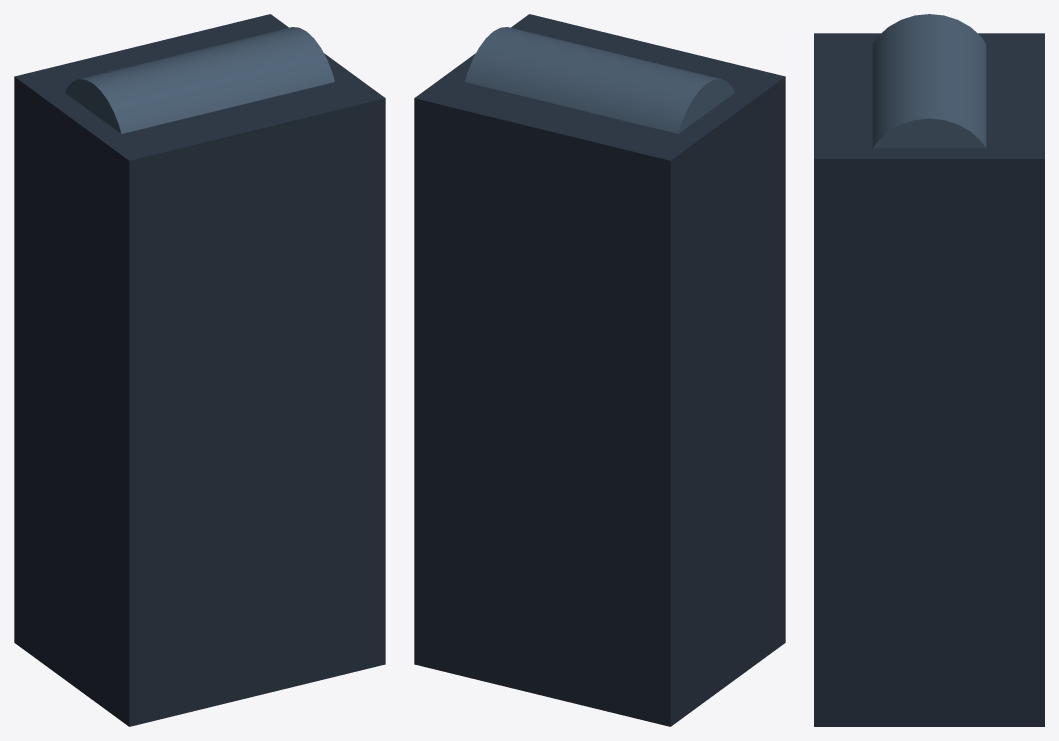
Rendered from boiler.glb.
3 renders of one model, left to right at view 1: azimuth 30°, elevation 25°; view 2: azimuth 150°, elevation 25°; view 3: azimuth 270°, elevation 25°, orthographic.
Visible parts, largest first — view 1: object 1, object 2; view 2: object 1, object 2; view 3: object 1, object 2.
Boxes of the visible parts, <box> form: object 1: <box>14,14,385,726</box>; object 2: <box>65,27,334,133</box>; object 1: <box>414,14,785,726</box>; object 2: <box>465,27,734,133</box>; object 1: <box>814,33,1044,726</box>; object 2: <box>872,14,986,148</box>.
Size of the model in its own units: 18 by 40 by 14.
